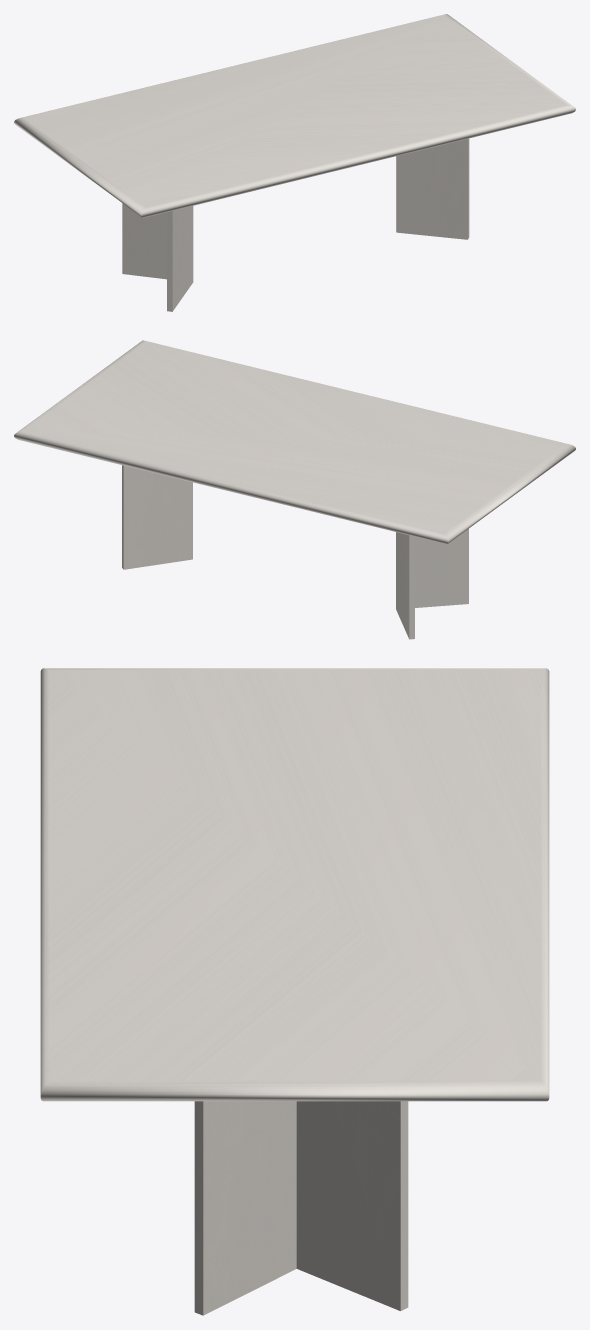
Rendered from pearlwhite_recta_round_valleyv.glb.
3 renders of one model, top to bottom at view 1: azimuth 30°, elevation 25°; view 2: azimuth 150°, elevation 25°; view 3: azimuth 270°, elevation 25°, orthographic. The views are drawn at different scales.
Parts seen in each view (by area): view 1: round_recta, valleyv; view 2: round_recta, valleyv; view 3: round_recta, valleyv.
Boxes of the visible parts, left/top/right/bottom form: round_recta: left=14, top=14, right=575, bottom=217; valleyv: left=122, top=138, right=469, bottom=311; round_recta: left=14, top=340, right=575, bottom=544; valleyv: left=122, top=465, right=468, bottom=639; round_recta: left=40, top=668, right=549, bottom=1101; valleyv: left=194, top=1101, right=408, bottom=1315.
Bounding box in the file's own units: 7.76 × 2.5 × 3.93.
1 material, 1 textured.
